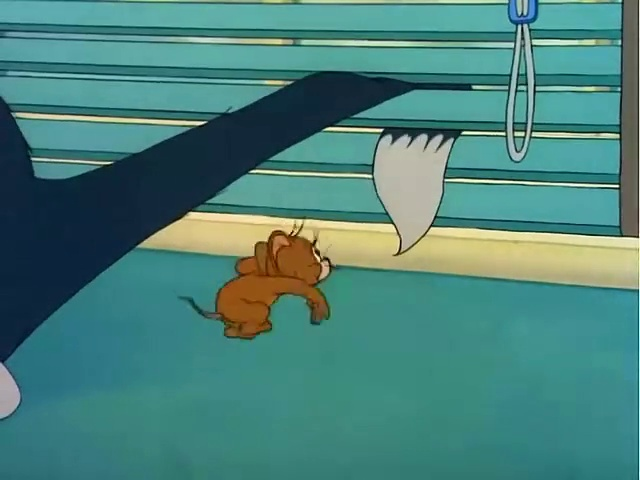jerry: (169, 207, 387, 363)
